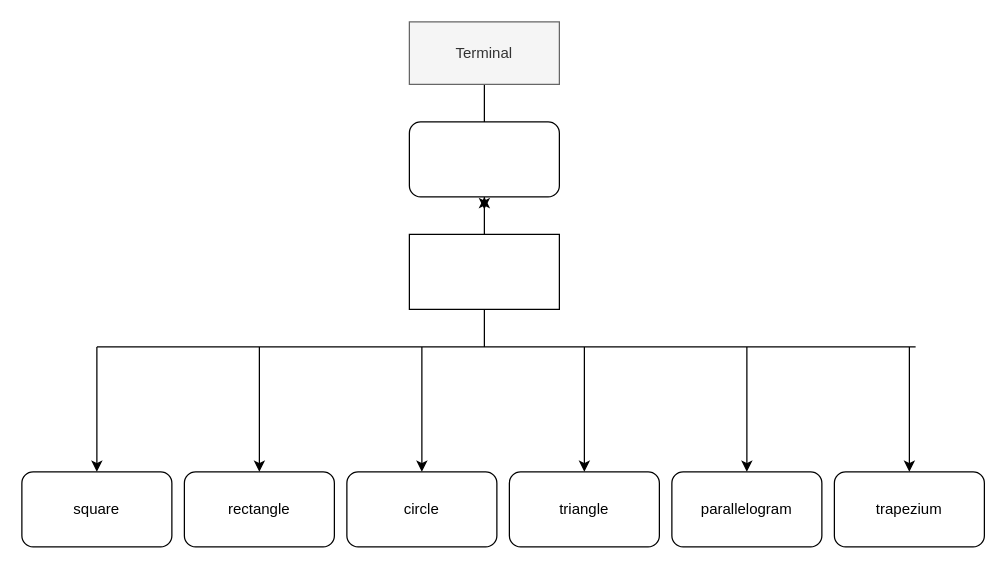
Some shapes in this 1006 by 569 pixel diagram are drawn without their labels. Each missing label, with the centre of its shape:
Area: point (483, 271)
menu: point (483, 159)
